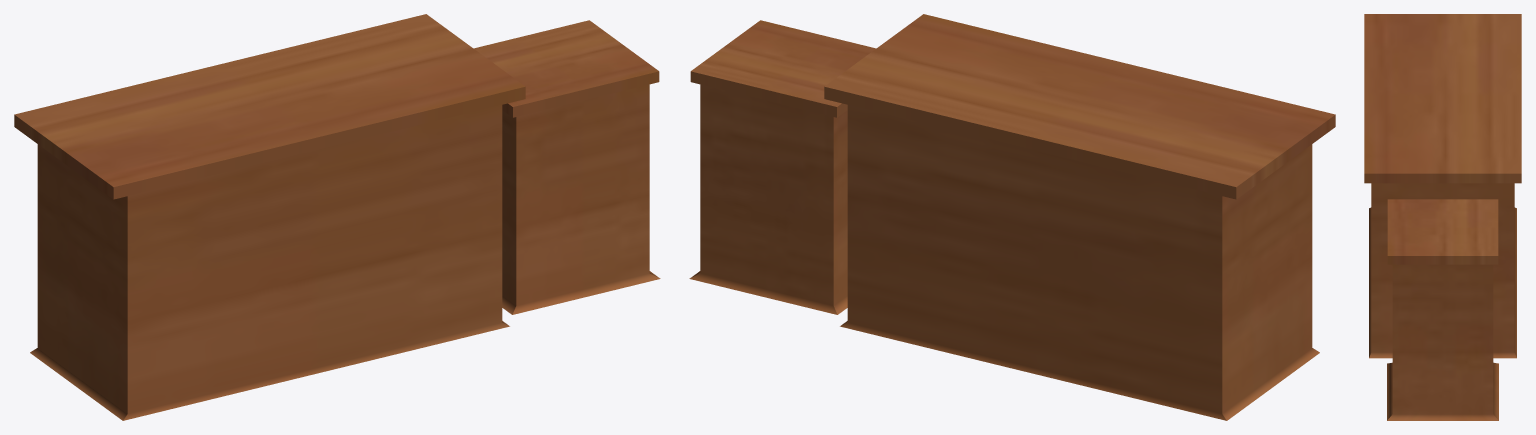
File: TeacherDesk.fbx
3 renders of one model, left to right at view 1: azimuth 30°, elevation 25°; view 2: azimuth 150°, elevation 25°; view 3: azimuth 270°, elevation 25°, orthographic. The views are drawn at different scales.
Parts seen in each view (by area): view 1: Desk1_blinn1_0.001, Desk2_blinn2_0.001; view 2: Desk1_blinn1_0.001, Desk2_blinn2_0.001; view 3: Desk1_blinn1_0.001, Desk2_blinn2_0.001.
Boxes of the visible parts, x1,y1,x2,y2 form: Desk1_blinn1_0.001: (14,14,525,420); Desk2_blinn2_0.001: (474,20,660,314); Desk1_blinn1_0.001: (824,14,1335,420); Desk2_blinn2_0.001: (689,20,875,314); Desk1_blinn1_0.001: (1364,14,1521,358); Desk2_blinn2_0.001: (1387,199,1498,420).
Size of the model in its own units: 890 by 362 by 273.
Materials: 2 (2 with a texture image).
